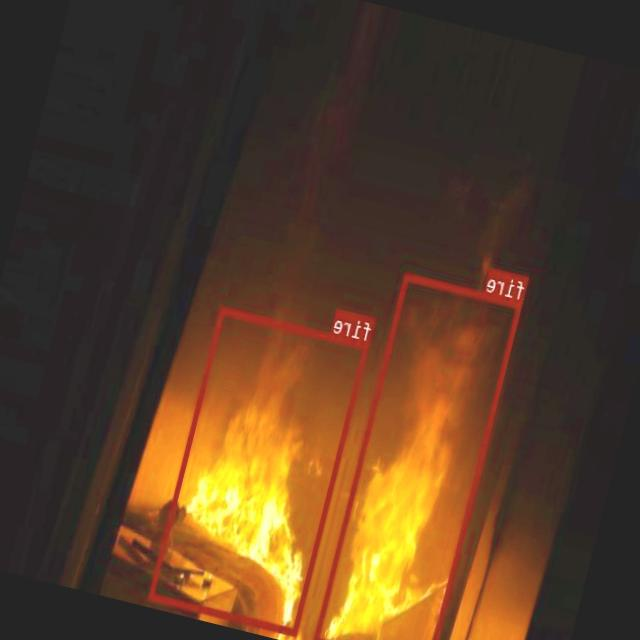fire: (313, 272, 522, 640), (148, 306, 370, 635)
